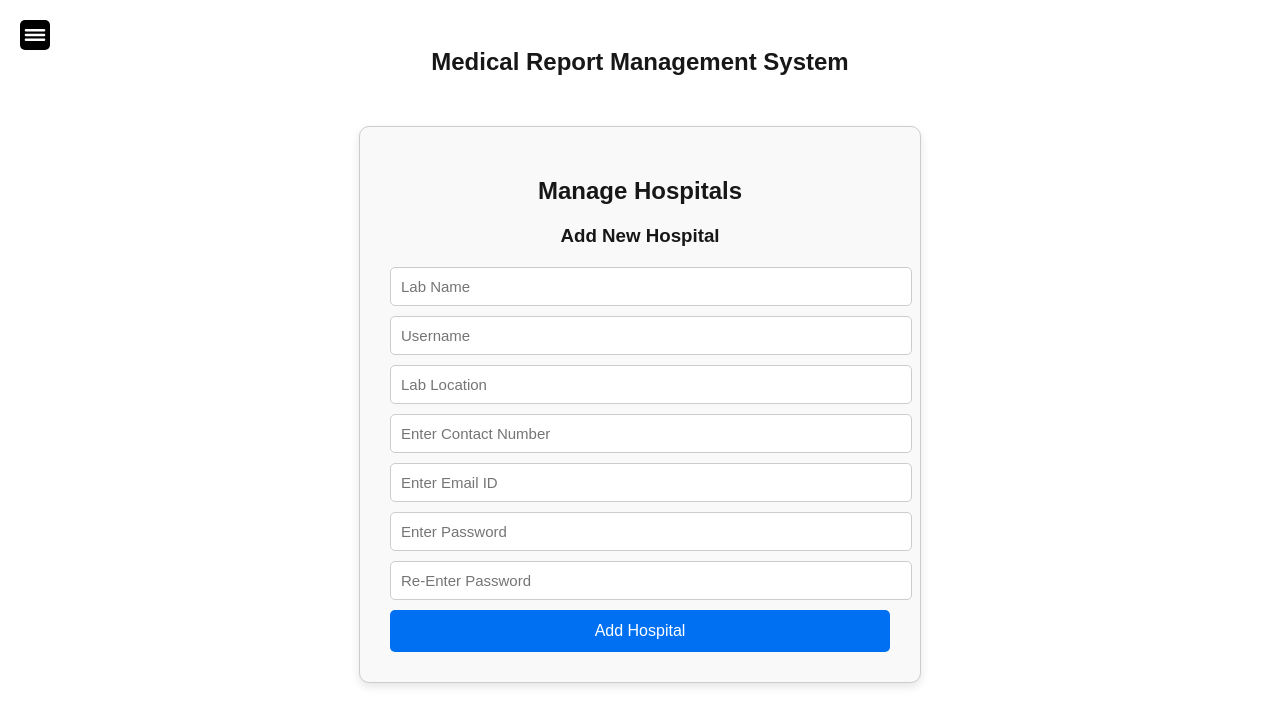
ManageHospital Component › shows password mismatch error
Type "password123" into the password field with placeholder "Enter Password" at (651,531), box x1=390 y1=512 x2=912 y2=551
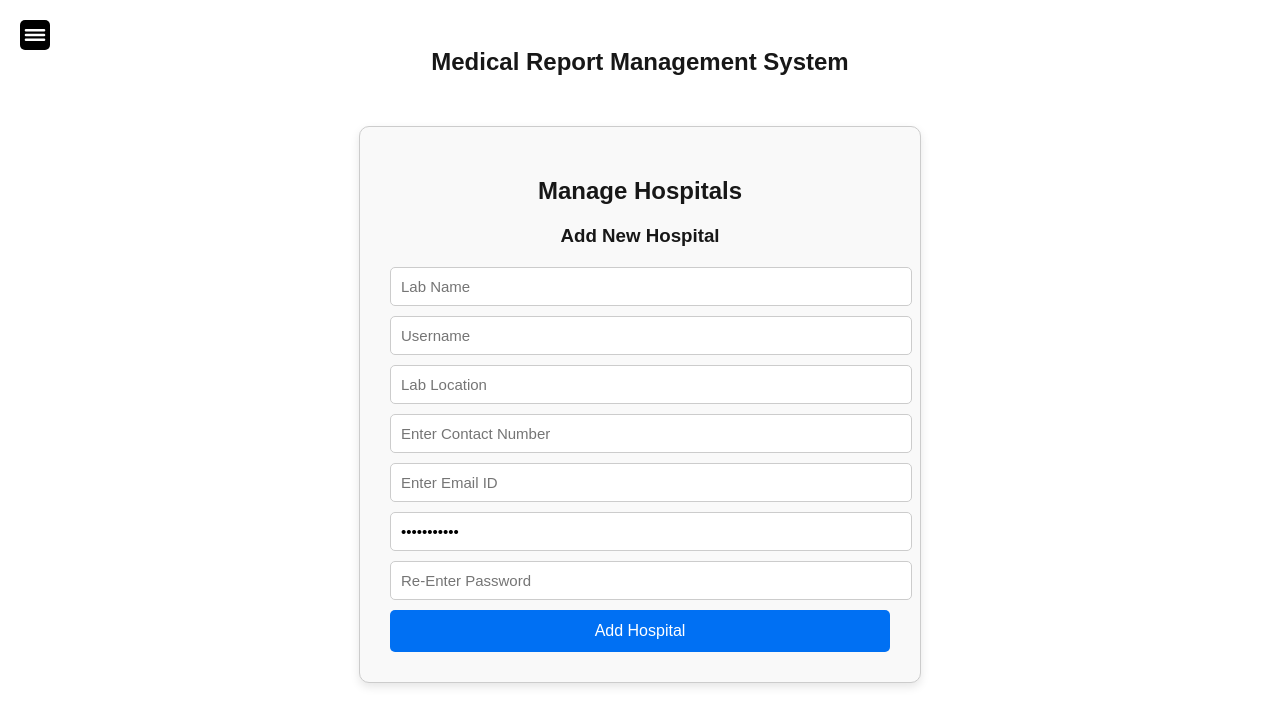
Type "wrongPassword" into the password field with placeholder "Re-Enter Password" at (651,580), box x1=390 y1=561 x2=912 y2=600
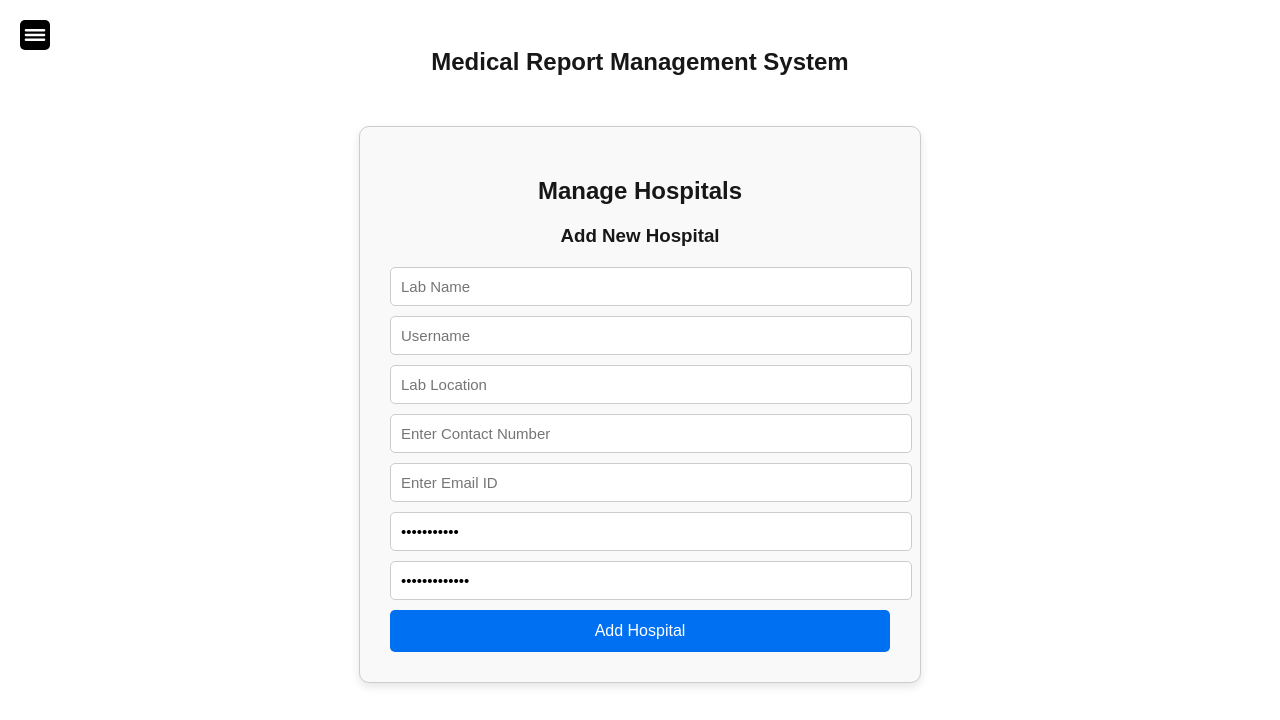
Click the button "Add Hospital" at (640,631), box x1=390 y1=610 x2=890 y2=652
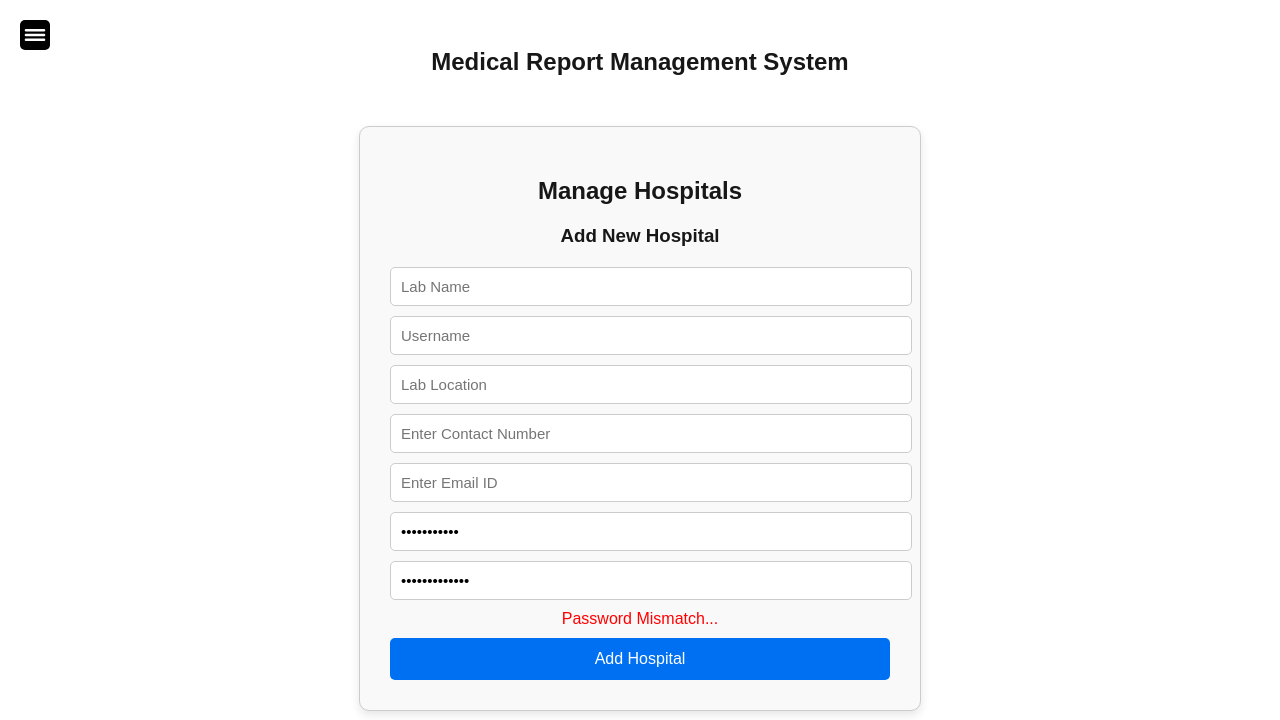
Now the text "Password Mismatch..." is shown, box x1=562 y1=610 x2=718 y2=627
